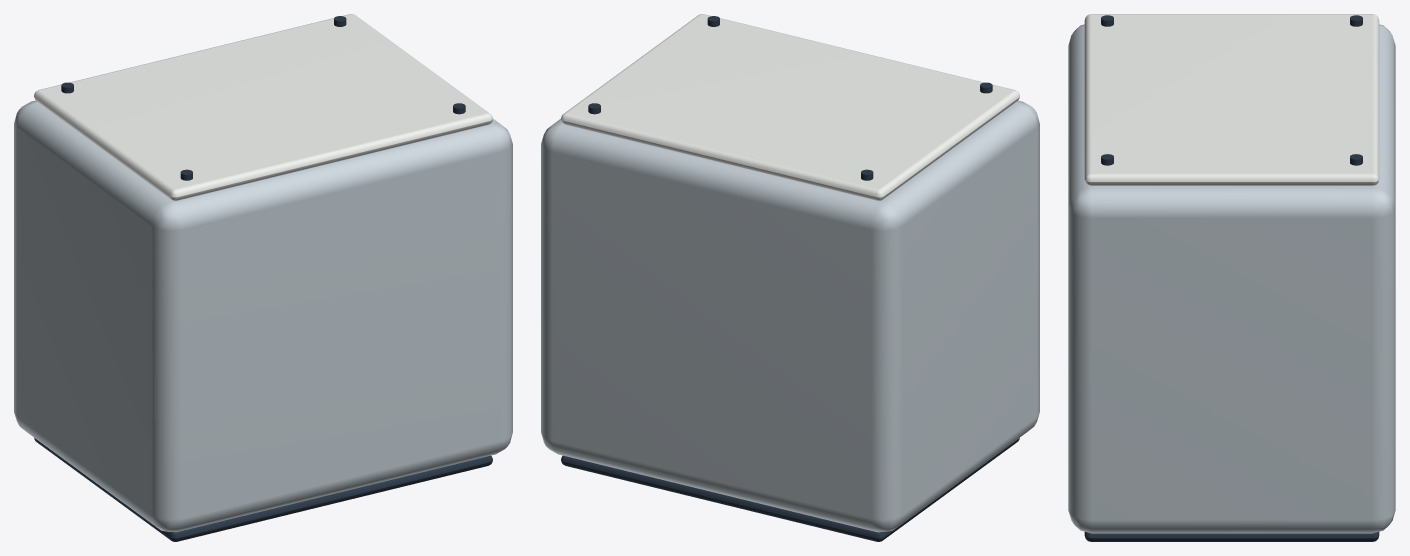
File: heavy_platform.glb
The picture shows the model from 3 angles, left to right: view 1: azimuth 30°, elevation 25°; view 2: azimuth 150°, elevation 25°; view 3: azimuth 270°, elevation 25°; orthographic projection. The views are drawn at different scales.
Visible parts, largest first — view 1: Main_Platform_Body, Top_Structural_Plate, Bottom_Structural_Plate; view 2: Main_Platform_Body, Top_Structural_Plate, Bottom_Structural_Plate; view 3: Main_Platform_Body, Top_Structural_Plate, Bottom_Structural_Plate.
Part boxes in pixels (<box>): Main_Platform_Body: <box>14,100,512,532</box>; Top_Structural_Plate: <box>34,14,492,200</box>; Bottom_Structural_Plate: <box>34,438,492,541</box>; Main_Platform_Body: <box>541,100,1039,532</box>; Top_Structural_Plate: <box>561,14,1019,200</box>; Bottom_Structural_Plate: <box>561,438,1019,541</box>; Main_Platform_Body: <box>1068,24,1395,533</box>; Top_Structural_Plate: <box>1084,14,1379,185</box>; Bottom_Structural_Plate: <box>1084,532,1379,541</box>.
Size of the model in its own units: 1.65 by 1.58 by 1.25.
